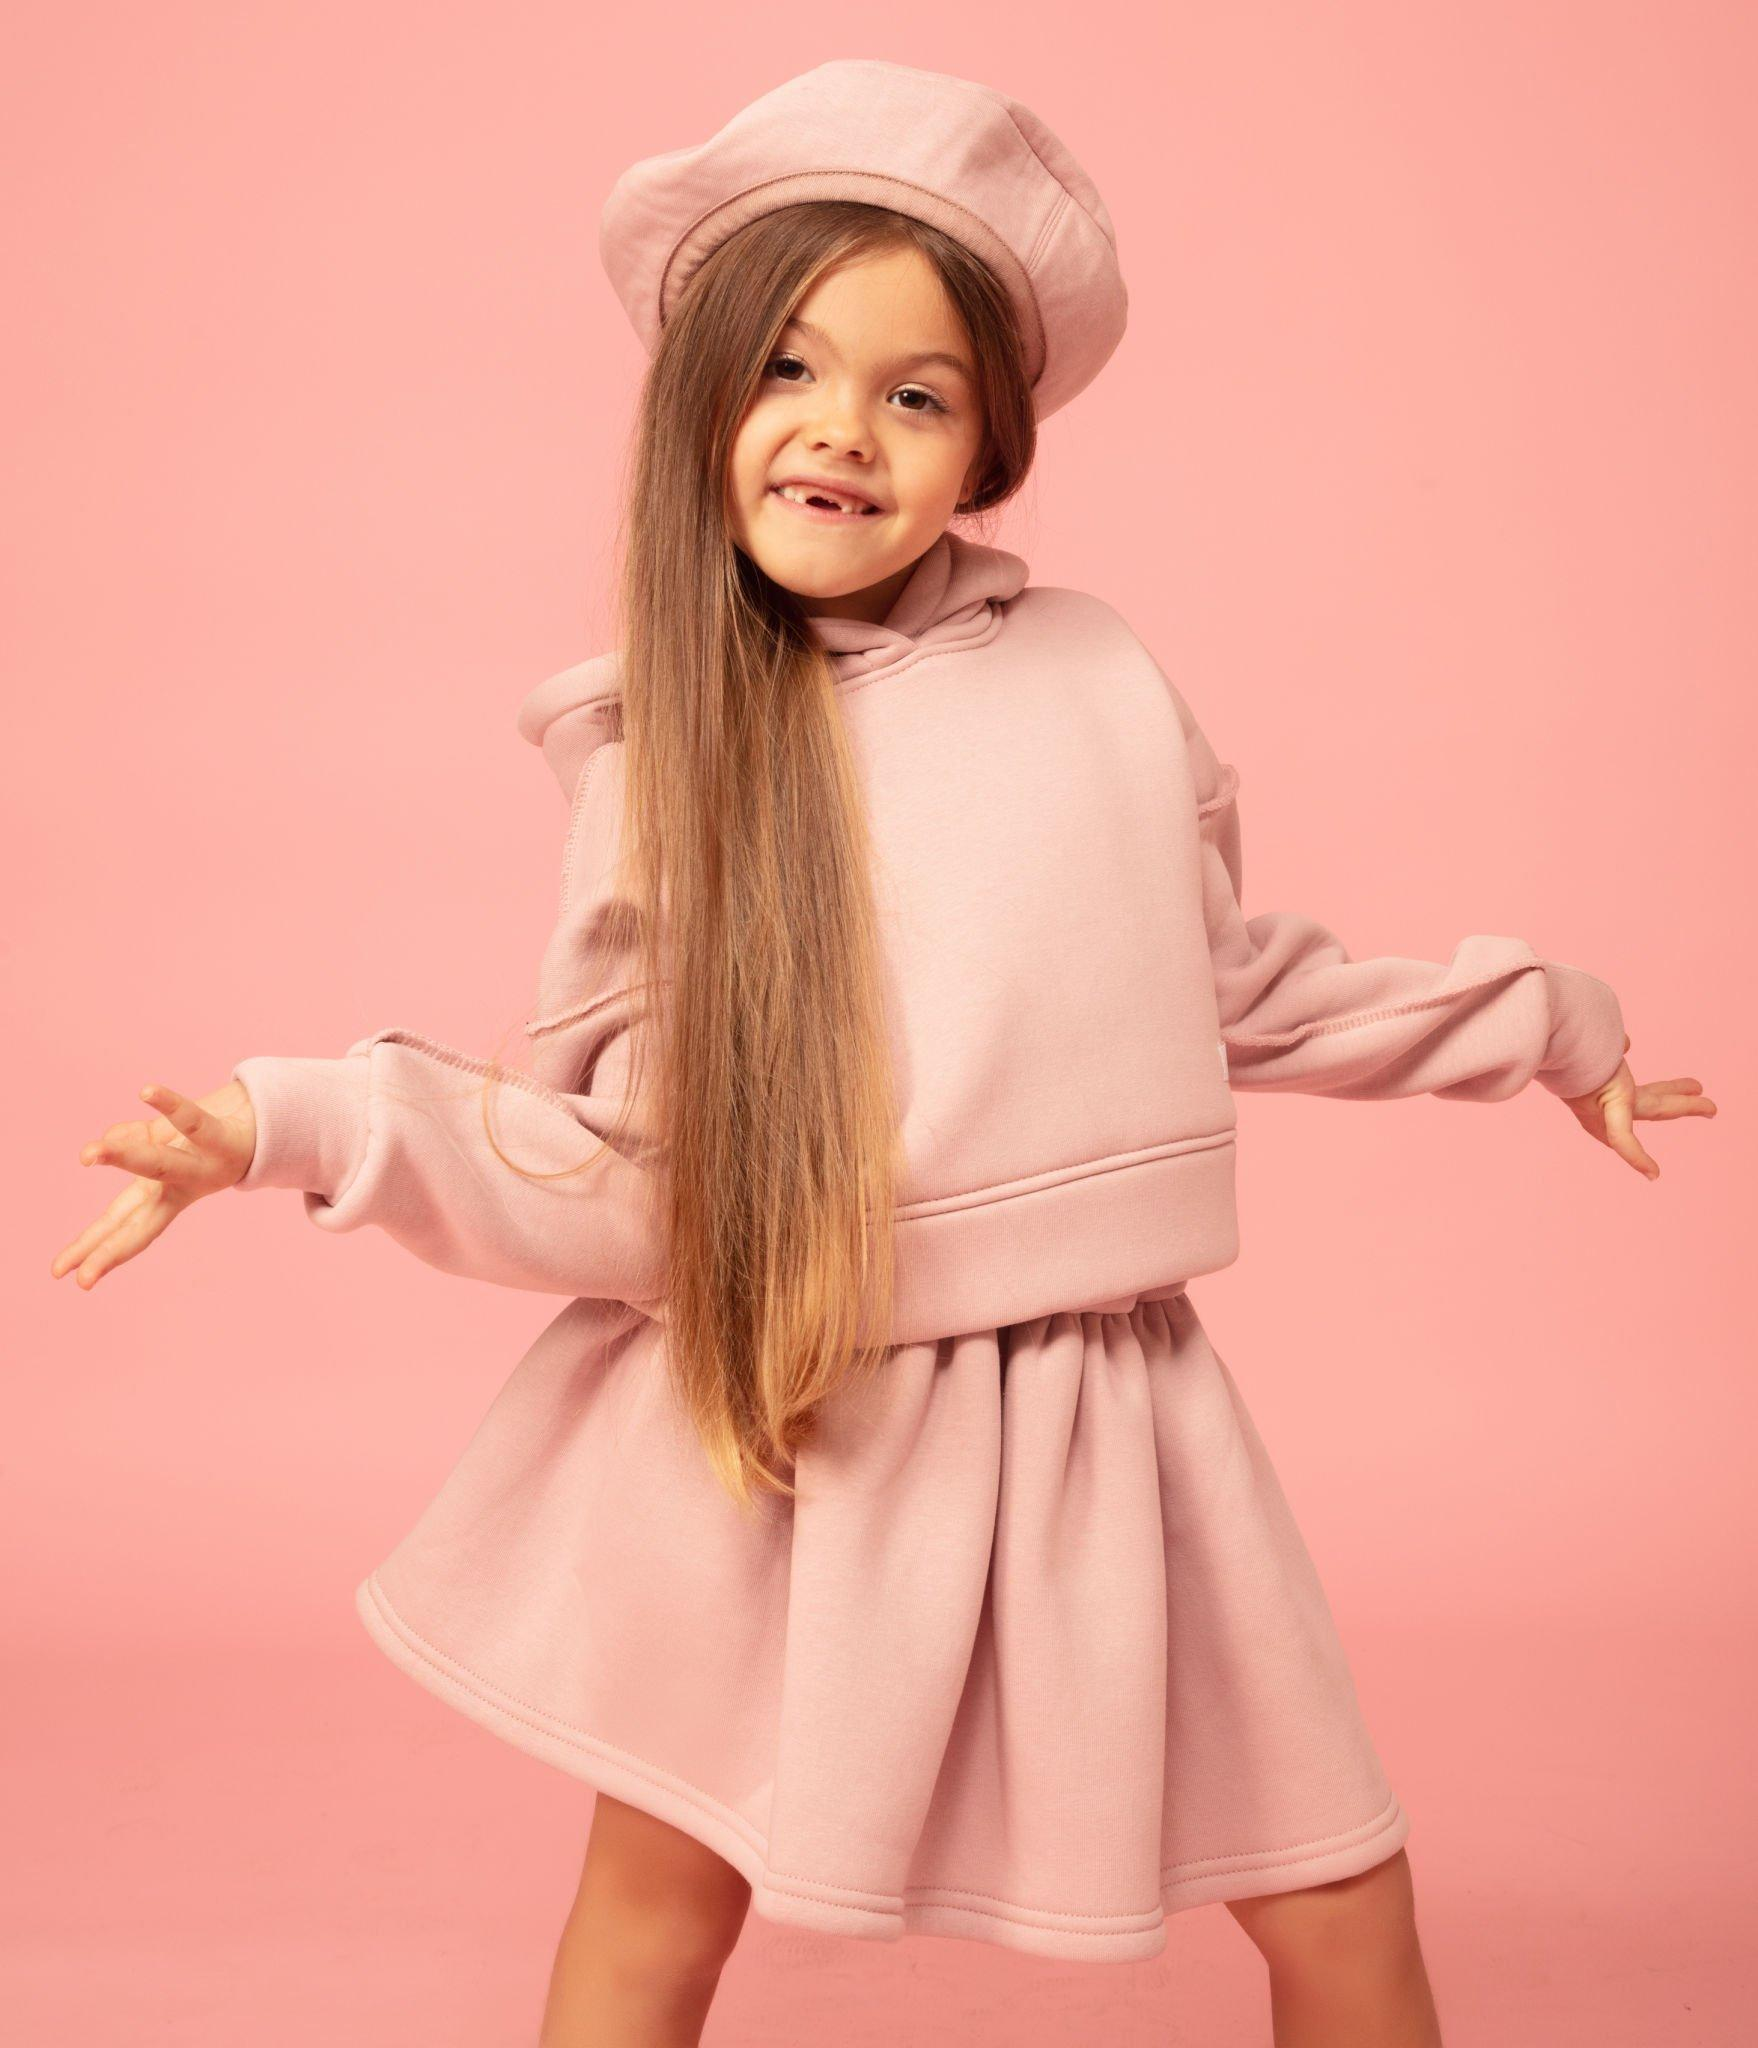Healthy: (697, 253, 995, 632)
